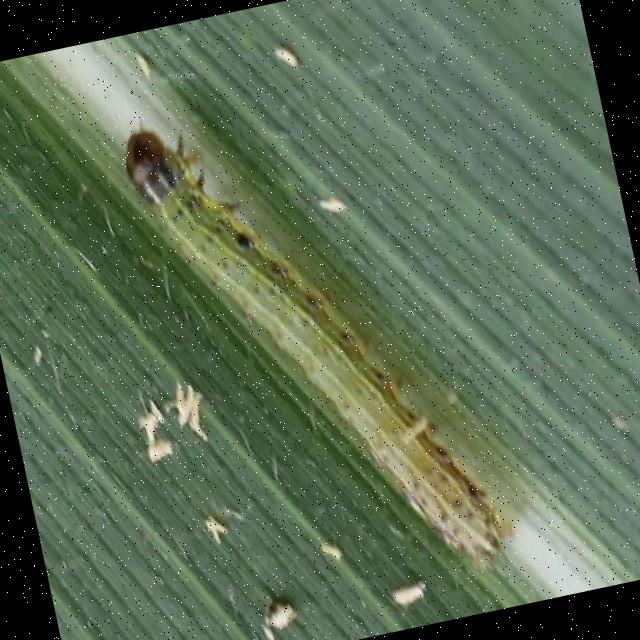worm: (115, 68, 515, 630), (116, 117, 184, 214)
